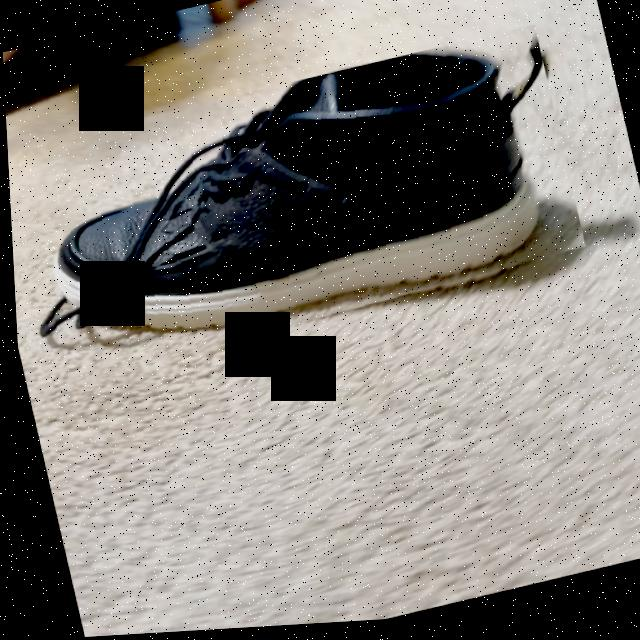shoe: (37, 54, 542, 339)
